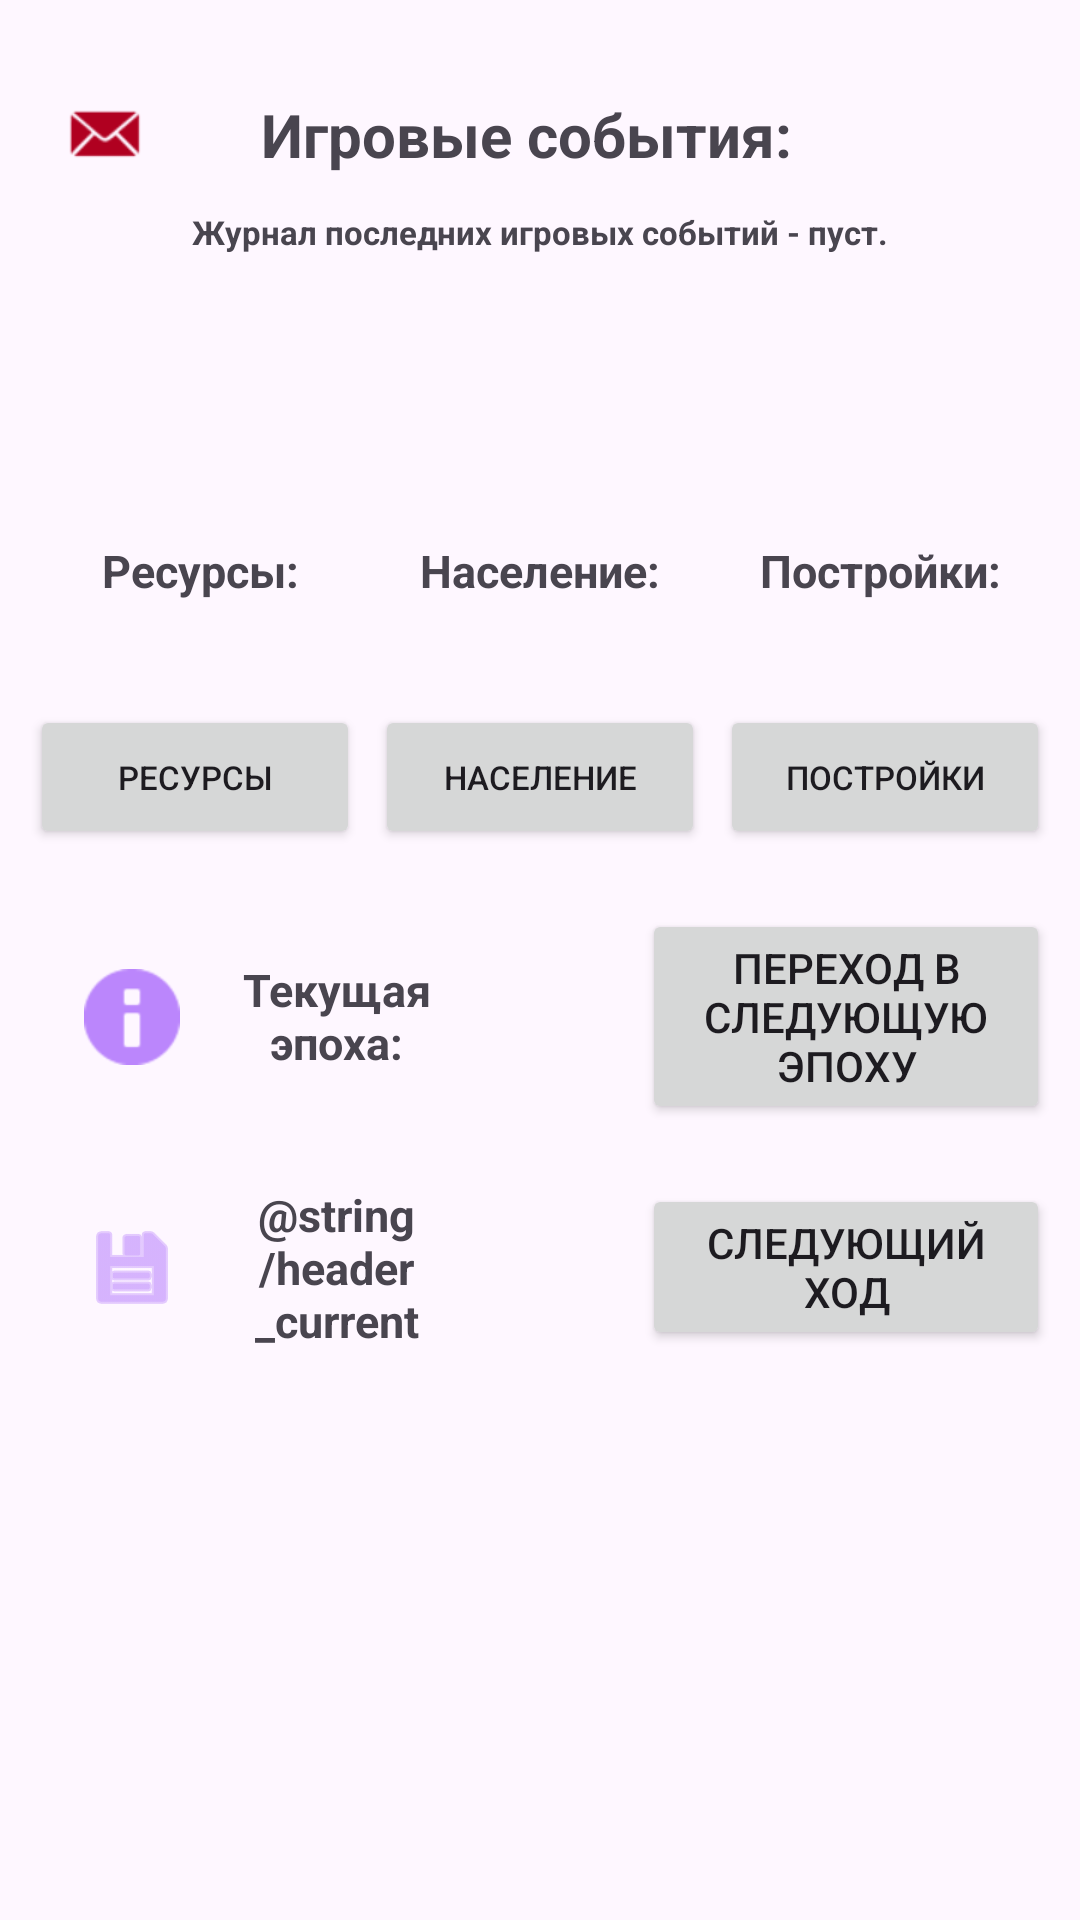

Icon click points for this 1080 x 1920 phone screenshot, format [x,y]:
info: [132,1017]
save: [132,1267]
sym action email: [105,134]
